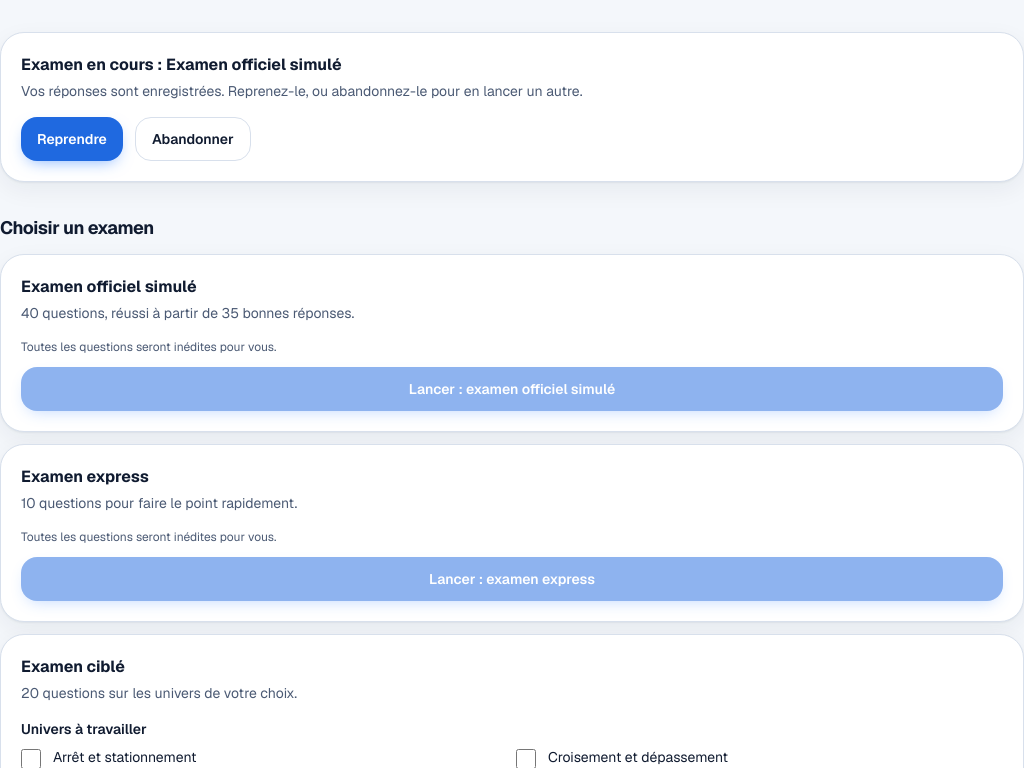
Scenario: examens : accueil › propose de reprendre ou d’abandonner un examen en cours
Expected: the heading "Examen en cours : Examen officiel simulé" is shown, [21,54,342,75]
Expected: the button "Lancer : examen express" is disabled, [21,557,1003,601]
Click the button "Reprendre" at [72, 139], box [21,117,123,161]
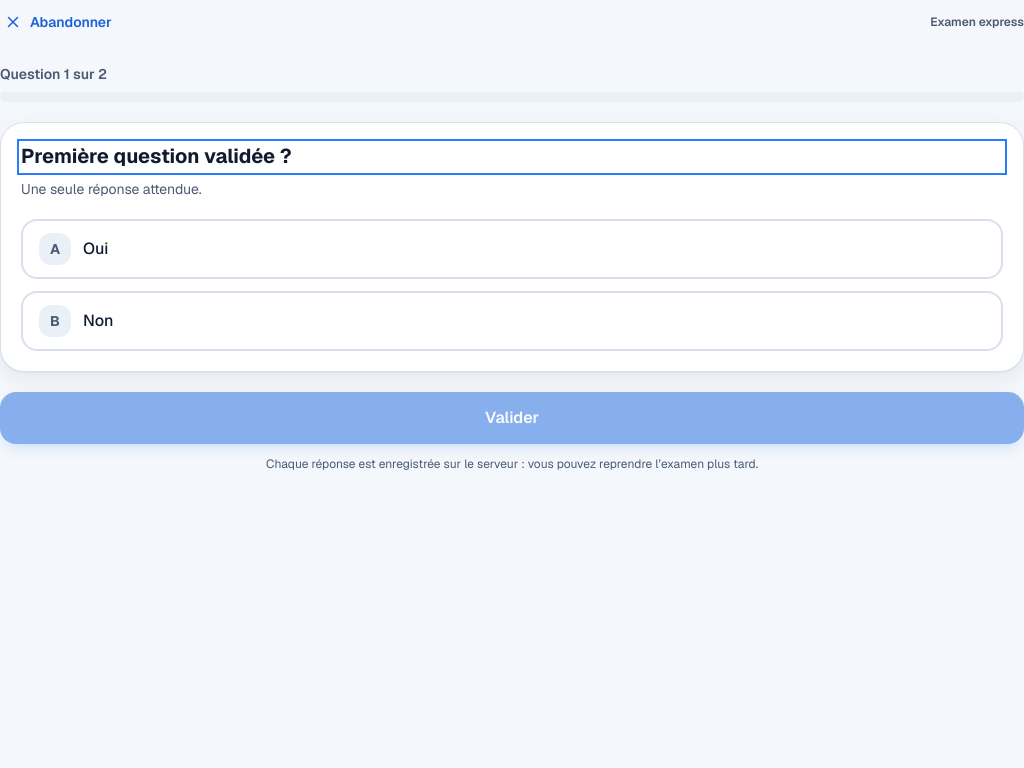
Now the text "Question 1 sur 2" is shown, box [0,65,107,83]
